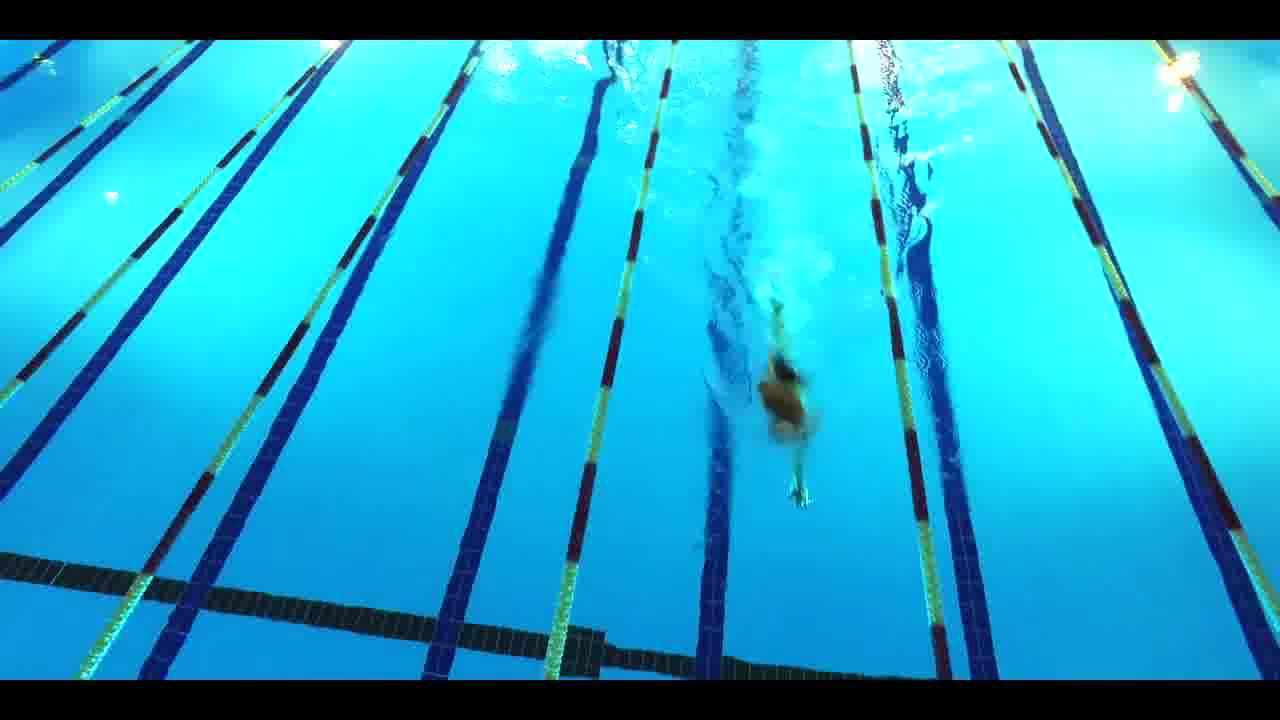swimmer: (750, 281, 843, 523)
